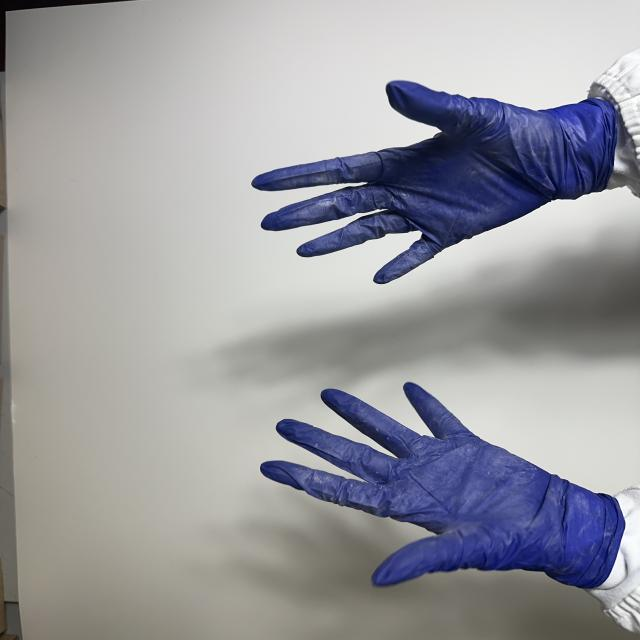gloves_contaminated: (261, 383, 624, 588), (252, 82, 618, 284)
